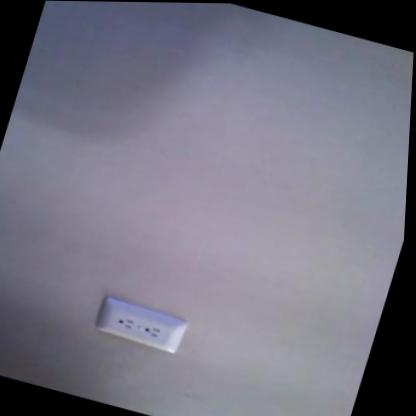OUTLET: (93, 294, 192, 354)
